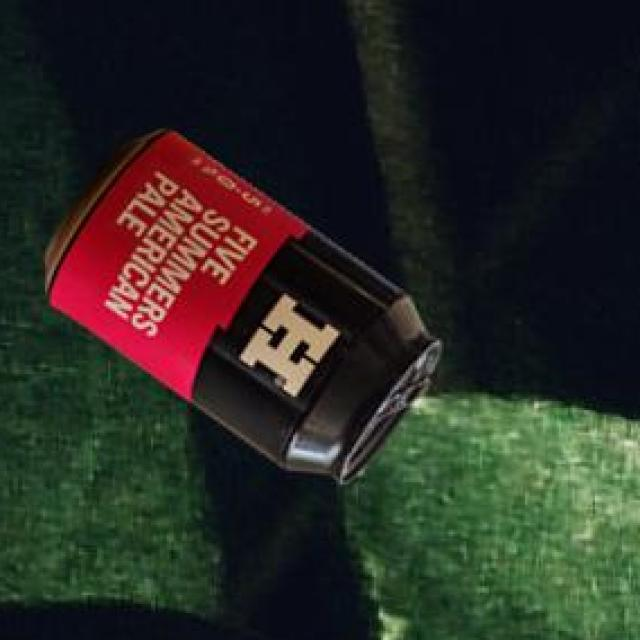logam: (48, 134, 445, 486)
